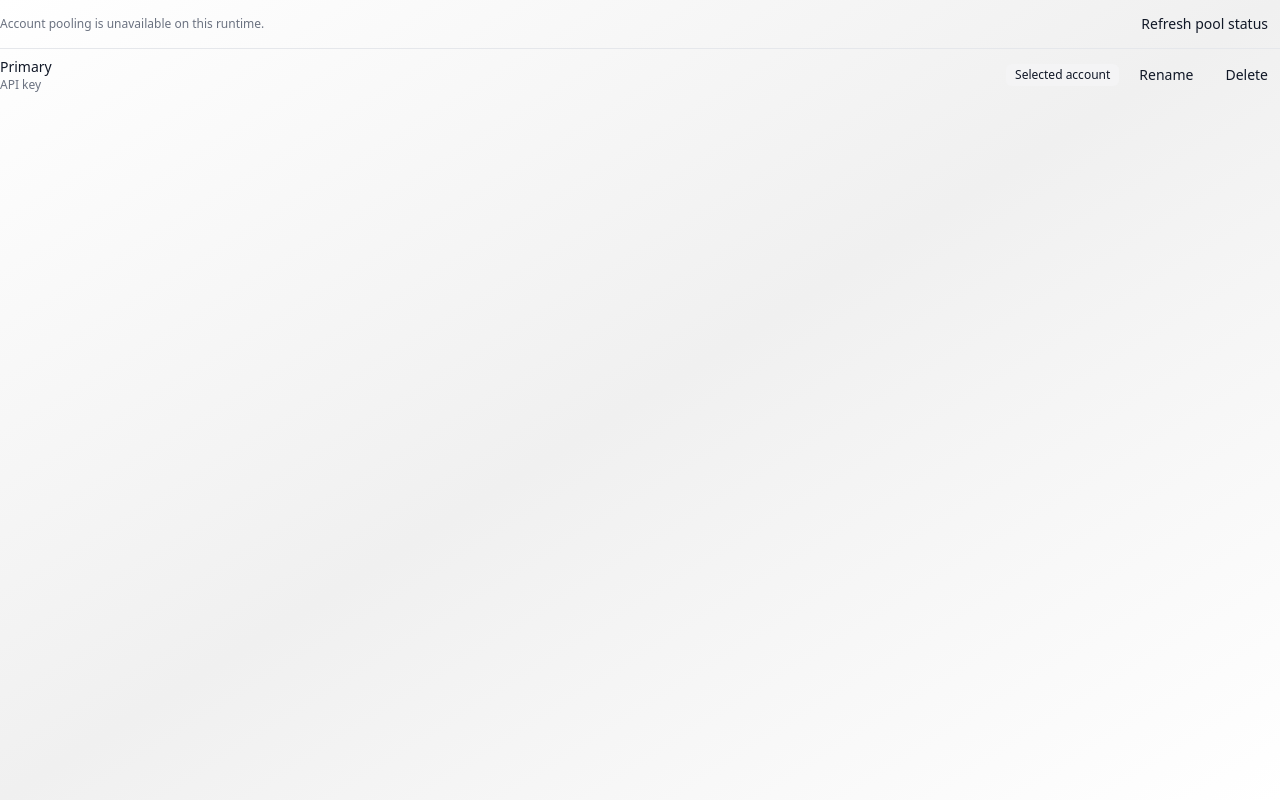
provider account list › requires confirmation for deletion and retains its dialog on failure: false
The width and height of the screenshot is (1280, 800).
Later steps or results of the test are not shown.
Click the button with aria-label "Delete account {name}" at (1247, 75), box [1213,59,1279,91]
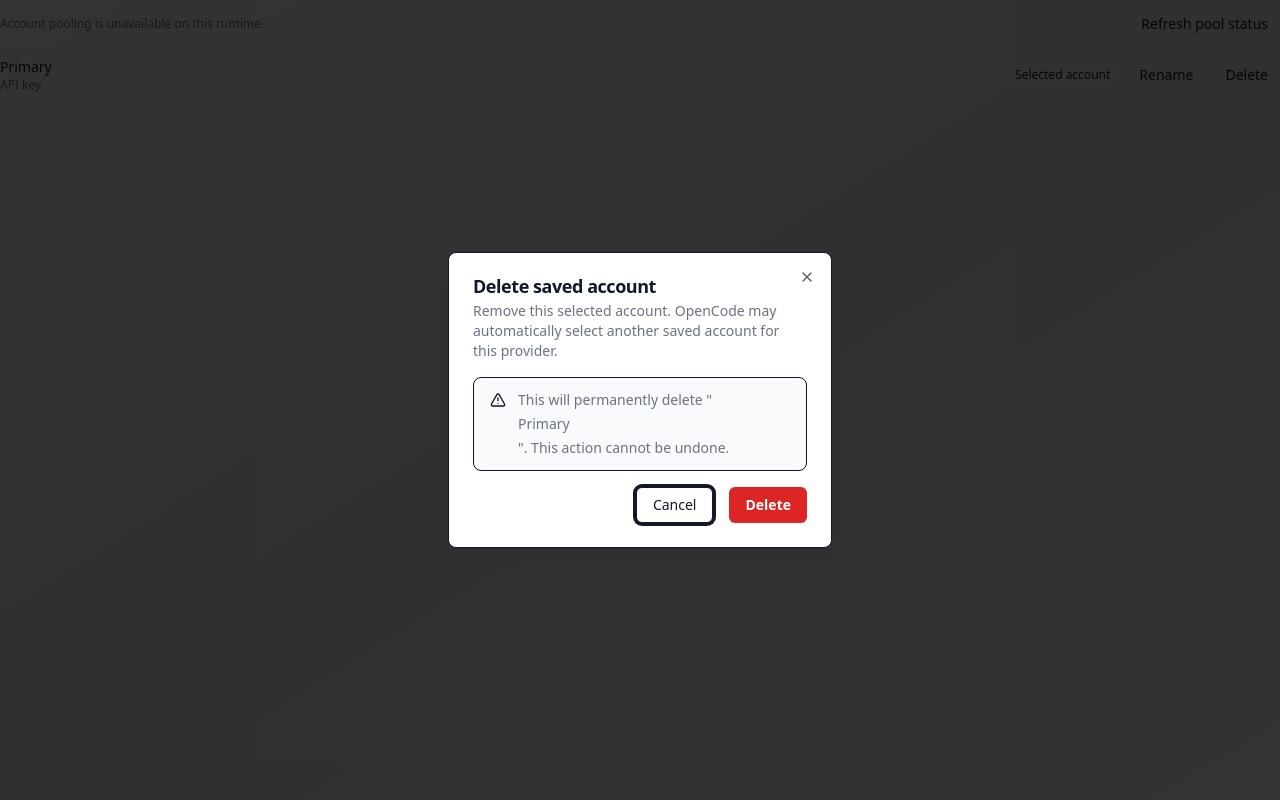
Result: the text "Primary" is shown at [518,414,570,434]
Result: the text "Remove this selected account. OpenCode may automatically select another saved account for this provider." is shown at [473,301,779,360]
